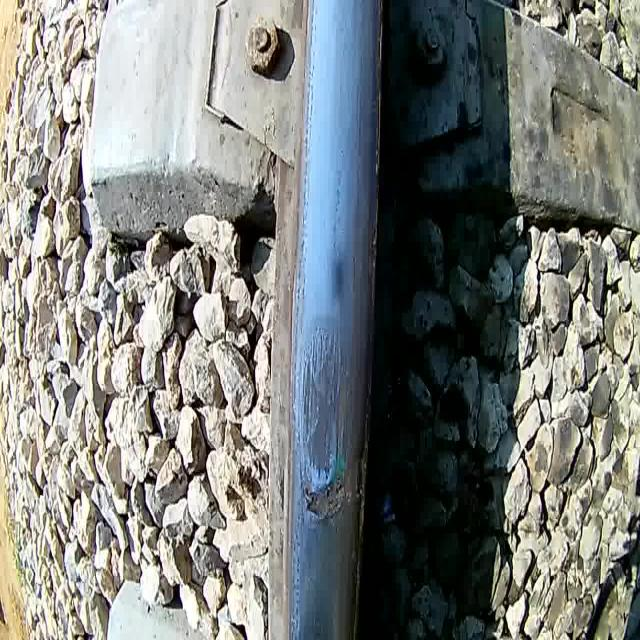Spallings: (299, 476, 358, 526)
Squats: (294, 317, 360, 474)
